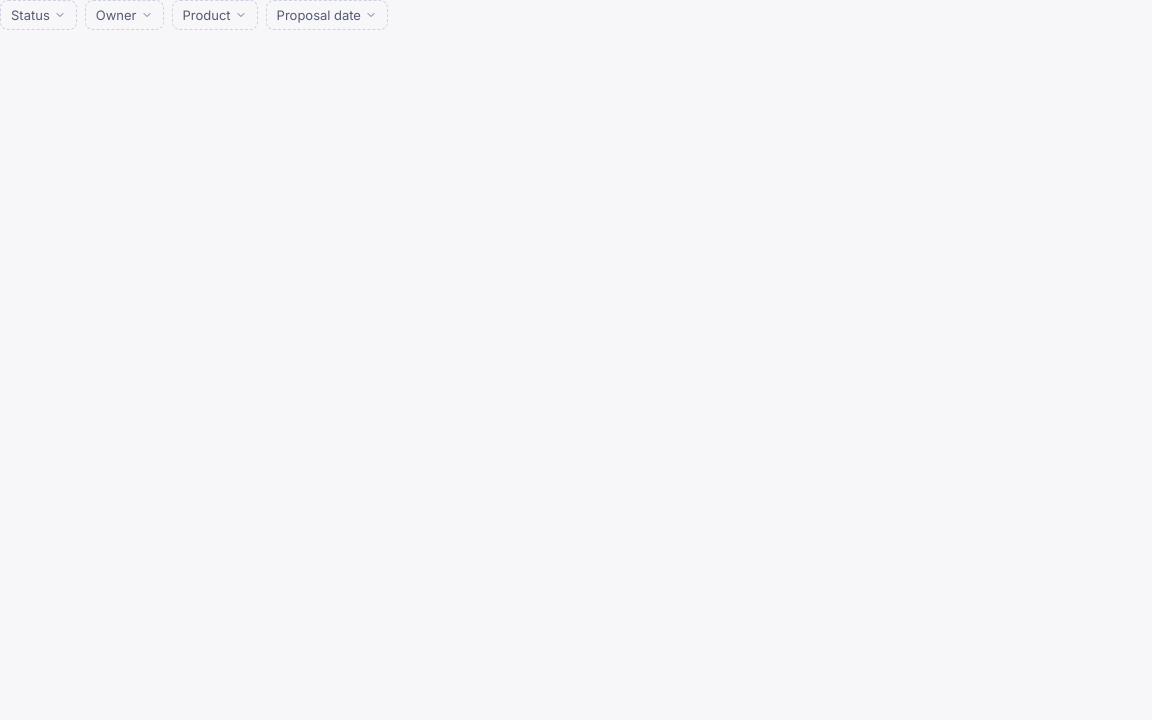
Test: FilterBar › picking Status Intake replaces the URL and the chip reads it
Click the button "Status": (38, 15) x1=0 y1=0 x2=77 y2=30
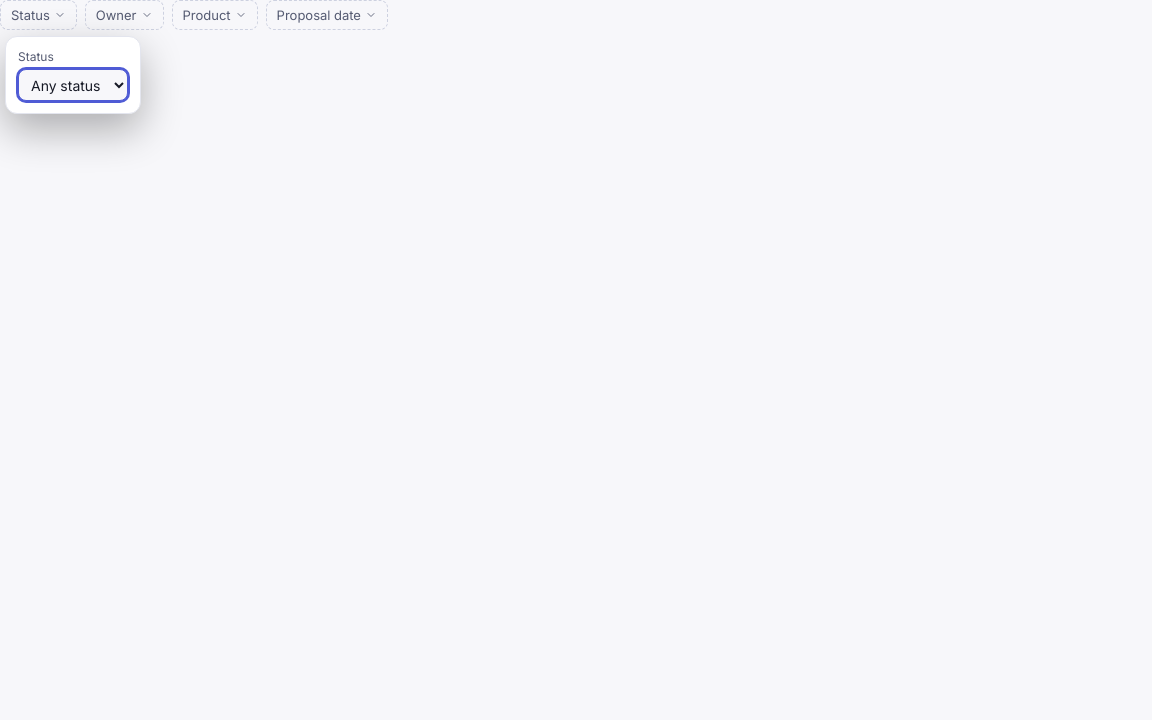
Select "Intake" in the dropdown labelled "Status": (73, 85) x1=18 y1=69 x2=128 y2=101
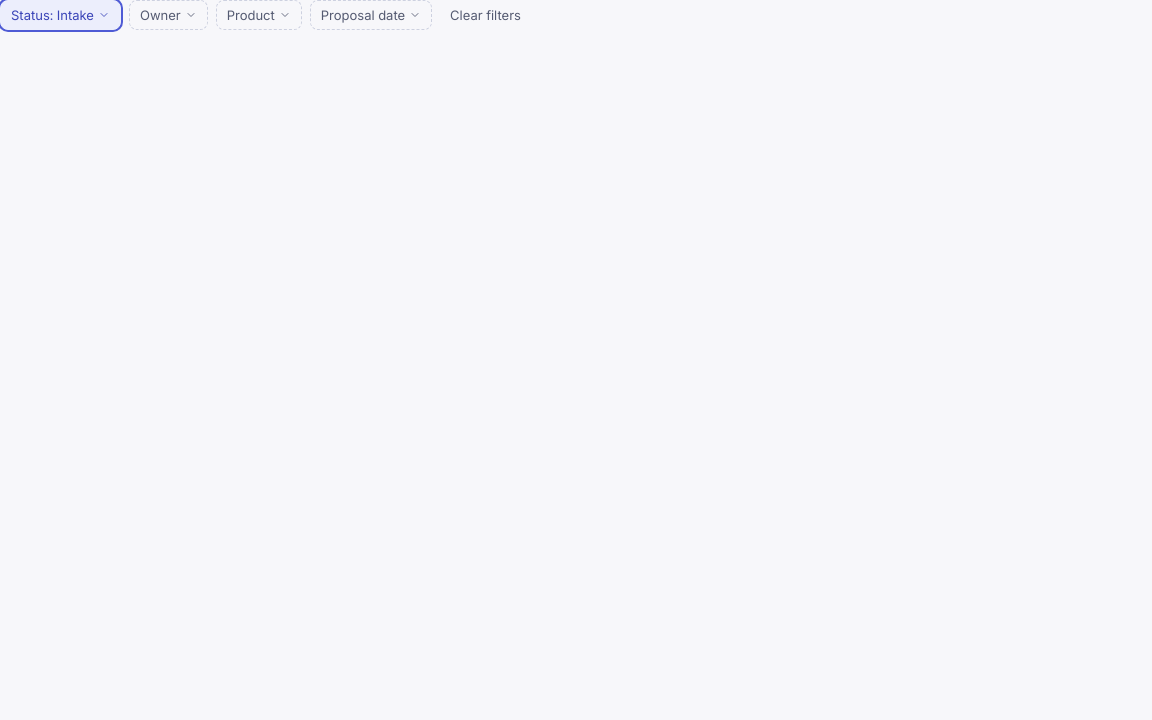
Check: the dialog is gone
